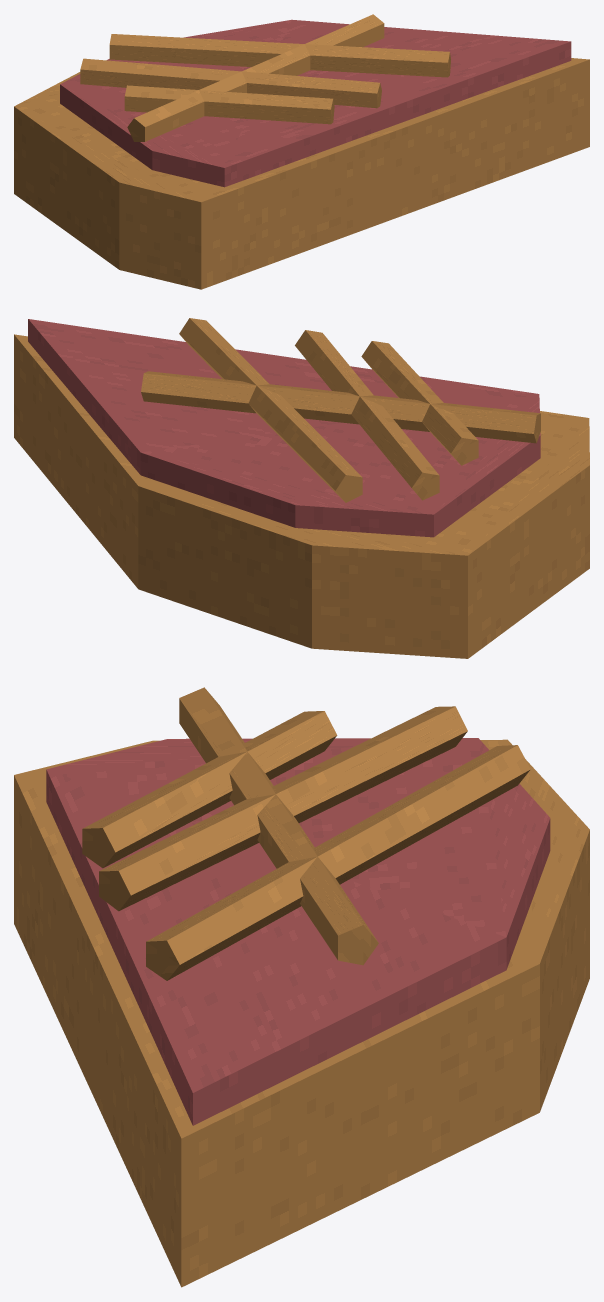
The model's file is pie.glb.
The picture shows the model from 3 angles, top to bottom: view 1: azimuth 30°, elevation 25°; view 2: azimuth 150°, elevation 25°; view 3: azimuth 270°, elevation 25°; orthographic projection. The views are drawn at different scales.
Parts seen in each view (by area): view 1: block_baked crust, block_exposed filling, block_woven pastry strip 0 (×4); view 2: block_baked crust, block_exposed filling, block_woven pastry strip 0 (×4); view 3: block_baked crust, block_exposed filling, block_woven pastry strip 0 (×4).
Part boxes in pixels (bbox=[...]): block_baked crust: bbox=[14, 58, 589, 289]; block_exposed filling: bbox=[60, 19, 571, 187]; block_woven pastry strip 0 (×4): bbox=[80, 14, 450, 141]; block_baked crust: bbox=[14, 334, 589, 658]; block_exposed filling: bbox=[28, 319, 540, 537]; block_woven pastry strip 0 (×4): bbox=[141, 318, 540, 502]; block_baked crust: bbox=[14, 739, 589, 1287]; block_exposed filling: bbox=[46, 738, 550, 1125]; block_woven pastry strip 0 (×4): bbox=[82, 687, 530, 980].
Bounding box in the file's own units: 0.1203 × 0.0319 × 0.0734.
1 material, 1 textured.
